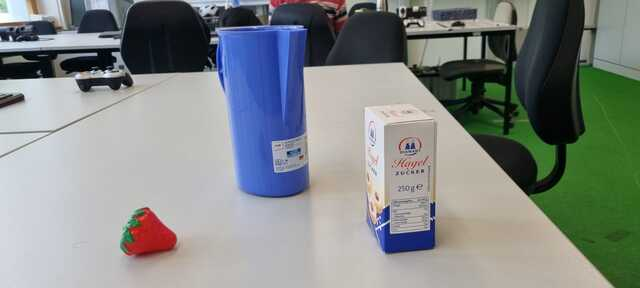004_sugar_box: (362, 103, 438, 254)
012_strawberry: (120, 207, 177, 257)
019_pitcher_base: (215, 25, 311, 198)
